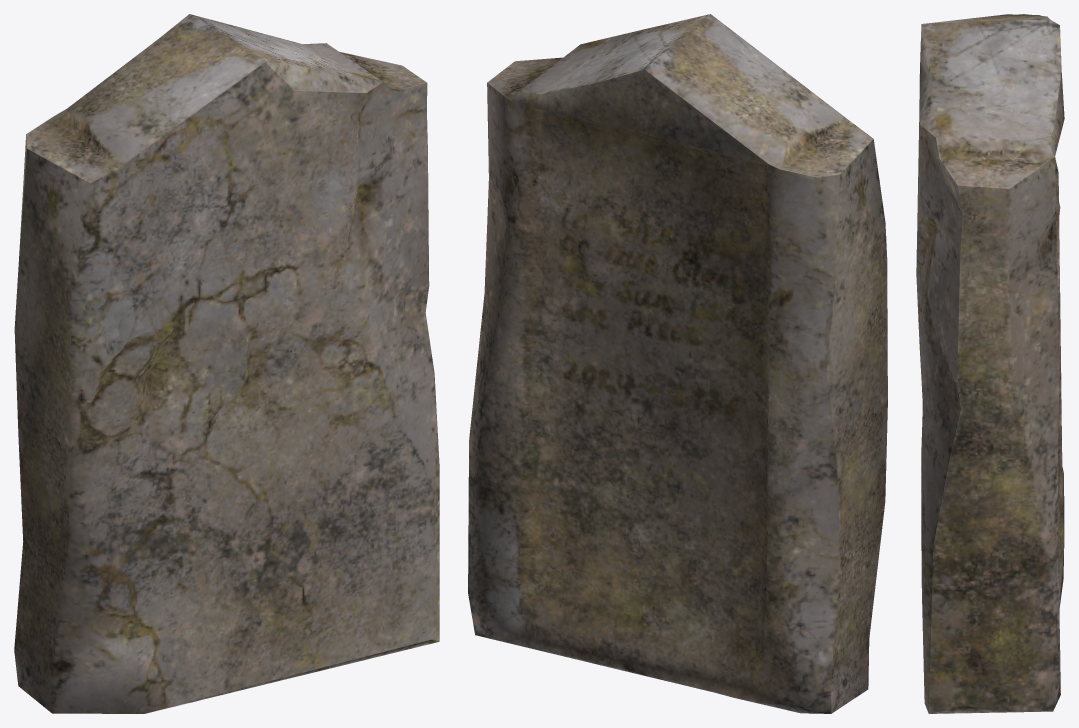
File: SM_TombStone02.FBX
3 renders of one model, left to right at view 1: azimuth 30°, elevation 25°; view 2: azimuth 150°, elevation 25°; view 3: azimuth 270°, elevation 25°, orthographic. The views are drawn at different scales.
Parts seen in each view (by area): view 1: SM_TombStone02; view 2: SM_TombStone02; view 3: SM_TombStone02.
Boxes of the visible parts, box(x1,y1,x2,y2) form: SM_TombStone02: box(14, 14, 439, 713); SM_TombStone02: box(468, 14, 887, 713); SM_TombStone02: box(916, 14, 1064, 713).
Size of the model in its own units: 100 by 35.78 by 162.
